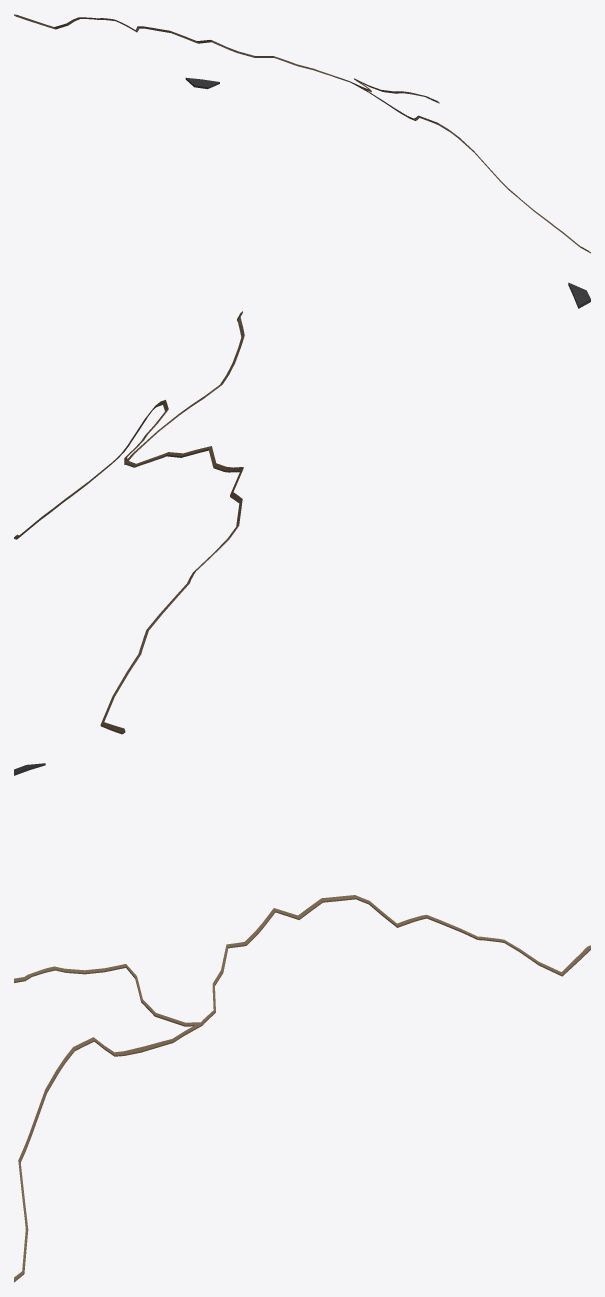
3 renders of one model, top to bottom at view 1: azimuth 30°, elevation 25°; view 2: azimuth 150°, elevation 25°; view 3: azimuth 270°, elevation 25°, orthographic. The views are drawn at different scales.
Bounding box in the file's own units: 262 × 168 × 292.
